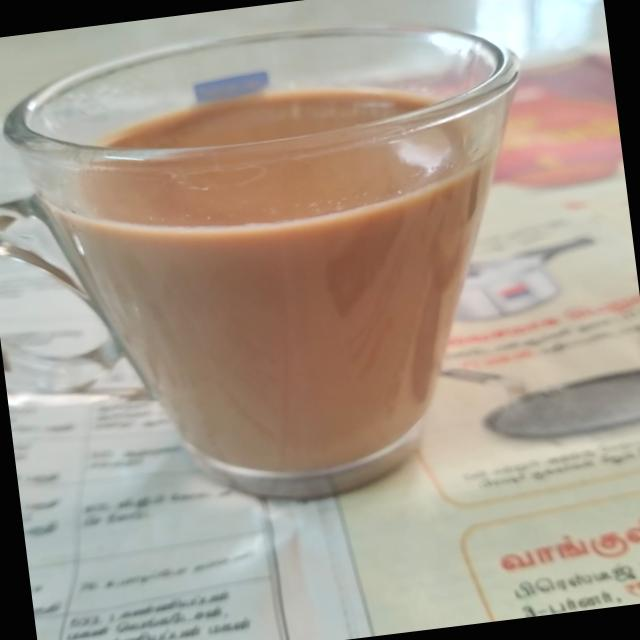glass-VX4N: (0, 0, 575, 535)
